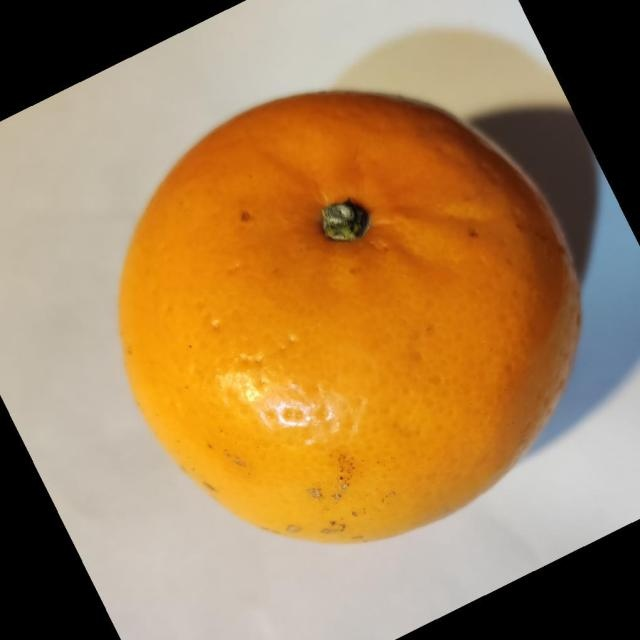agrume: (117, 87, 583, 545)
